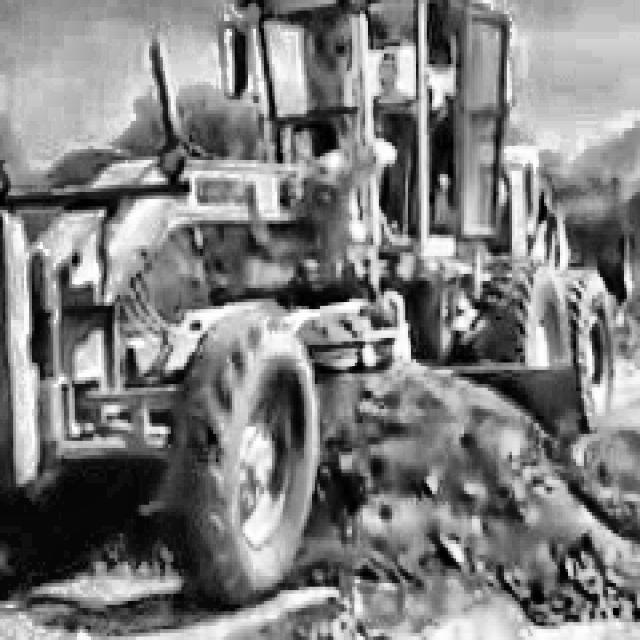buldozerpayloadergrader: (0, 0, 613, 594)
